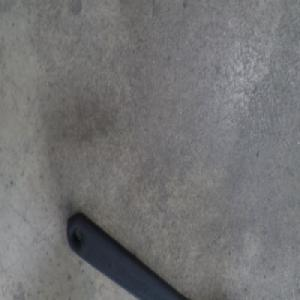AdjustableWrench: (64, 210, 199, 299)
